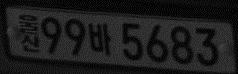3: (194, 26, 219, 65)
5: (121, 22, 144, 61)
6: (144, 23, 169, 62)
8: (170, 25, 194, 64)
9: (64, 17, 86, 57), (40, 15, 62, 54)
바: (88, 21, 112, 56)
울산_V: (18, 13, 40, 52)
